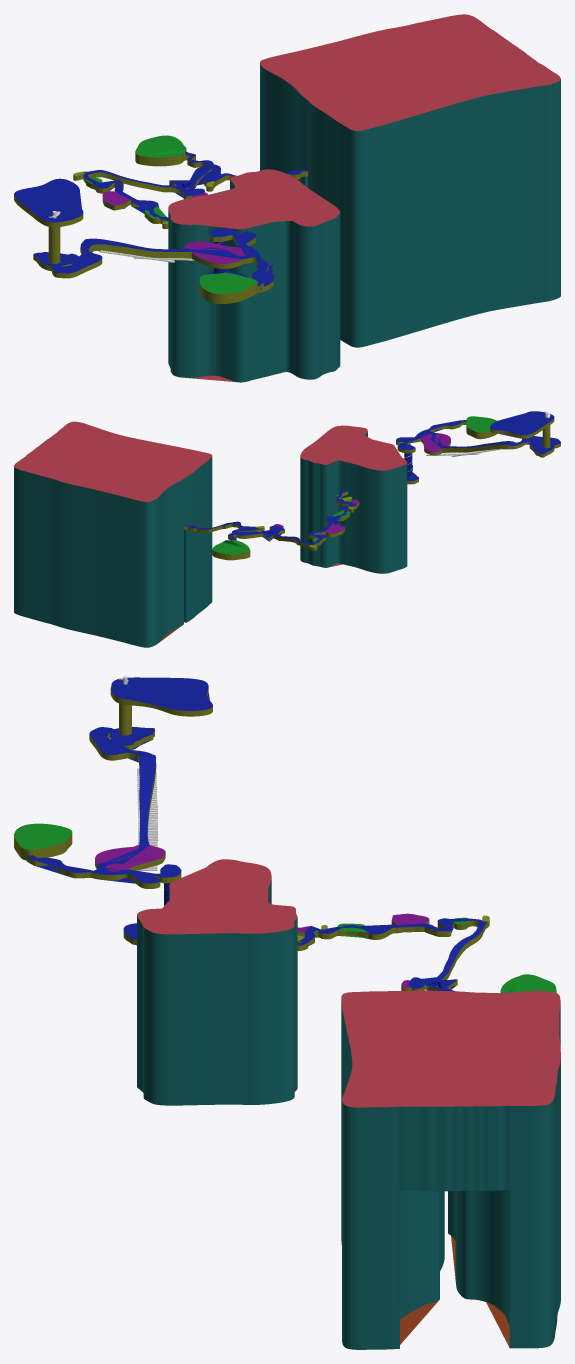
File: World-Whitebox - Dungeon - Draft Final V2.fbx
3 views of the same model, one above another, from view 1: azimuth 30°, elevation 25°; view 2: azimuth 150°, elevation 25°; view 3: azimuth 270°, elevation 25° (orthographic). The views are drawn at different scales.
Parts seen in each view (by area): view 1: Dungeon Floor Layout (Floor 1-4) 3D; view 2: Dungeon Floor Layout (Floor 1-4) 3D; view 3: Dungeon Floor Layout (Floor 1-4) 3D.
Boxes of the visible parts, bbox=[...] form: Dungeon Floor Layout (Floor 1-4) 3D: bbox=[14, 14, 560, 382]; Dungeon Floor Layout (Floor 1-4) 3D: bbox=[14, 411, 560, 647]; Dungeon Floor Layout (Floor 1-4) 3D: bbox=[14, 677, 560, 1349].
Bounding box in the file's own units: 45940 × 21603 × 31406.
